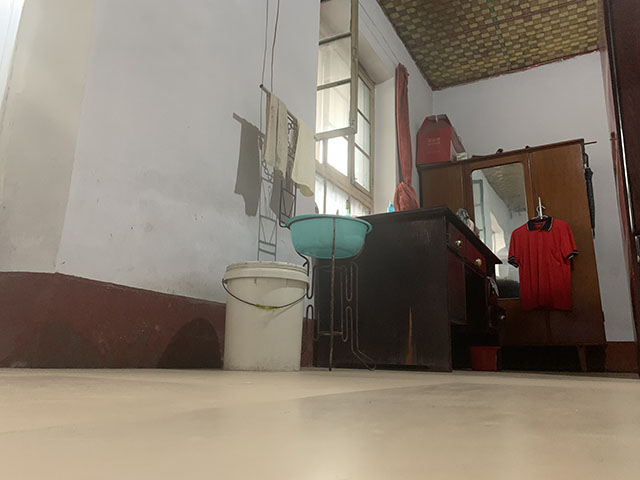cabinet: (415, 137, 609, 370)
table: (311, 203, 505, 374)
trashcan: (467, 344, 501, 372)
